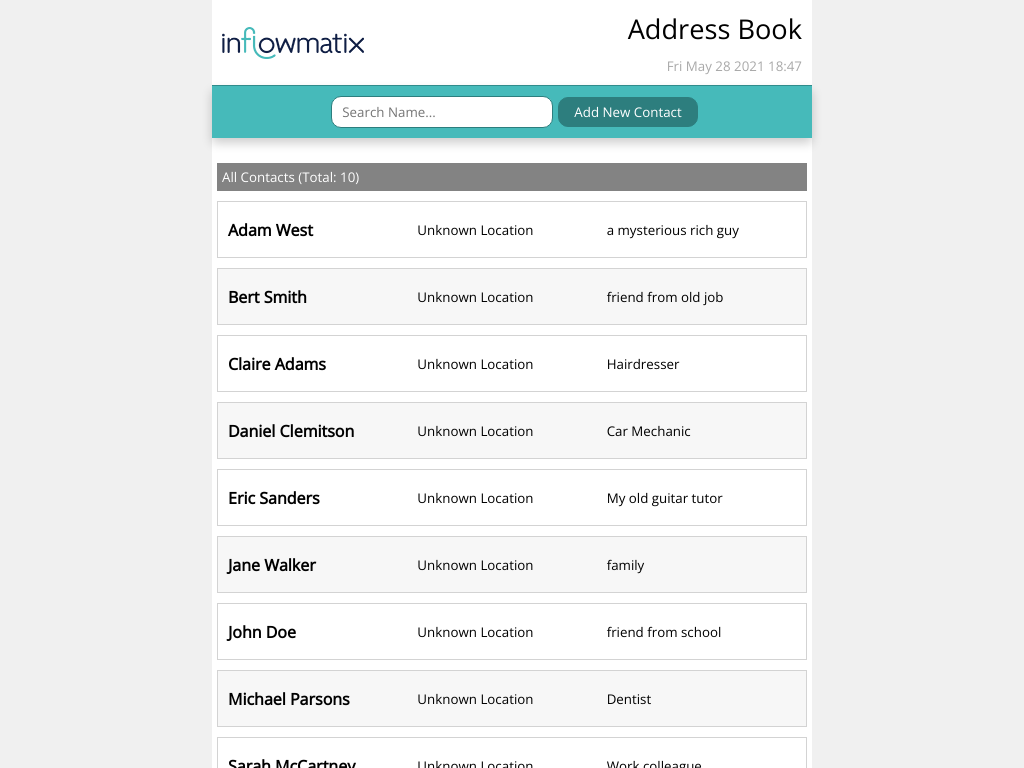
updates contacts › opens the 'add contact' form
The width and height of the screenshot is (1024, 768).
What coordinates should you click on to do the following:
click the button with id "btnAddContact"
I would click on:
 (628, 112)
Its box is [558,97,697,127].
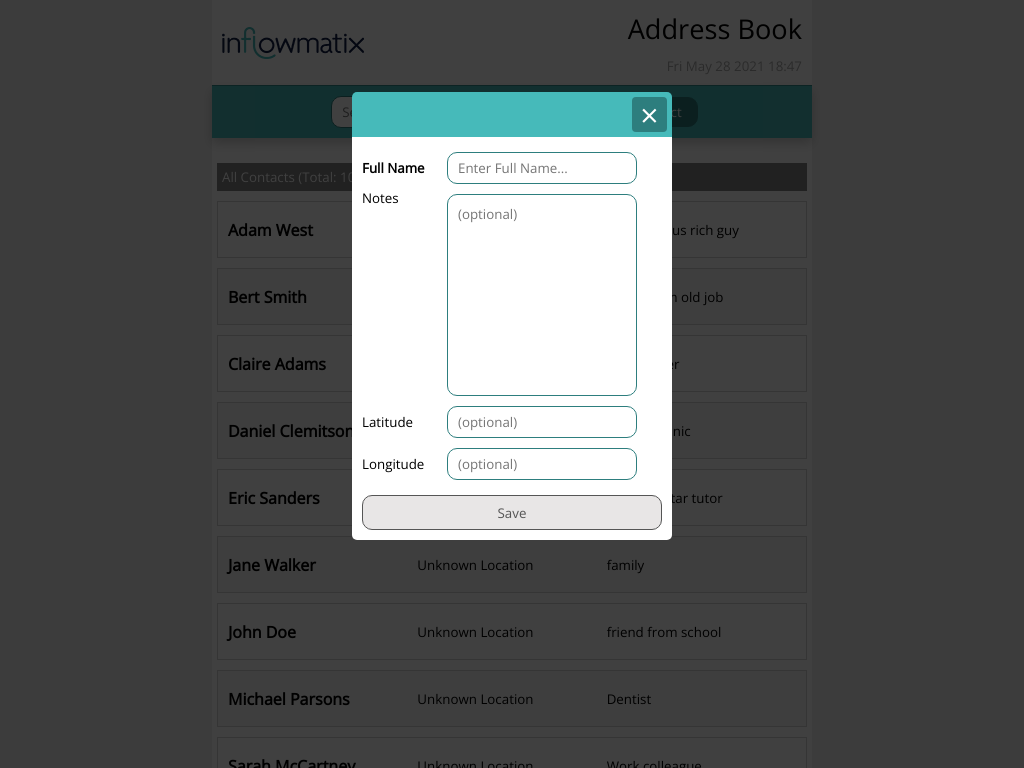
Result: the element showing "× Full Name Notes Latitude Longitude Save" is shown
